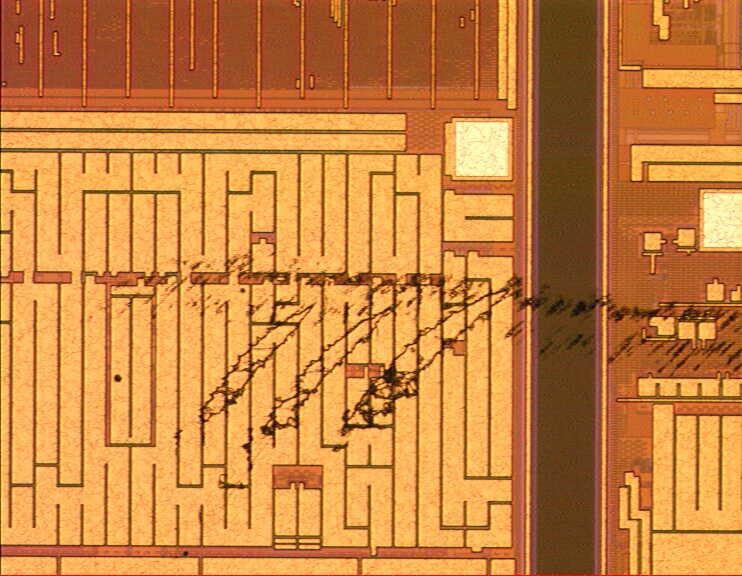SCRATCH: (55, 250, 742, 503)
